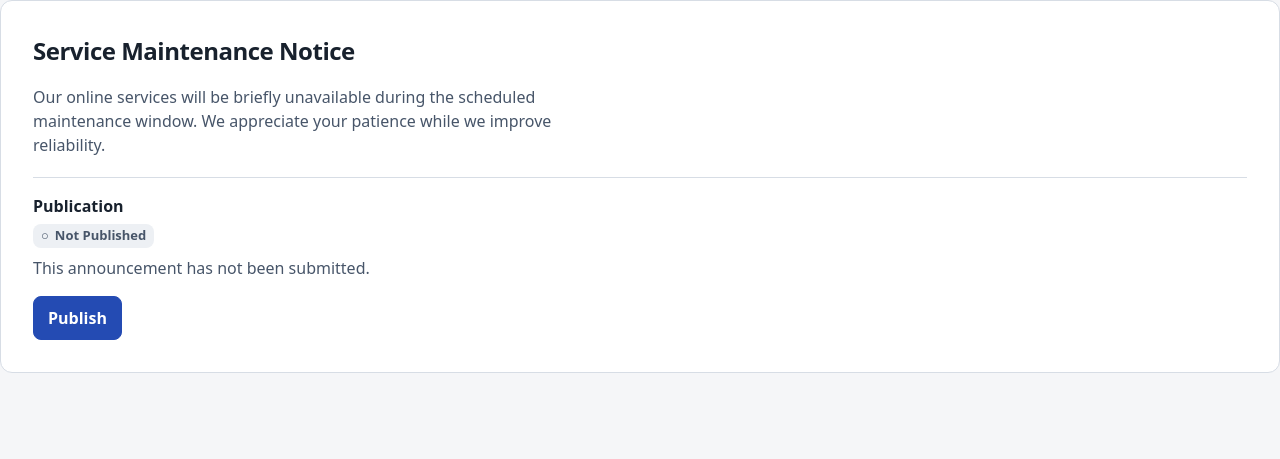
Test: preserves the published snapshot when the original slow publish response arrives
The width and height of the screenshot is (1280, 459).
Click the button "Publish" at (77, 318), box [33,296,122,340]
Wait 120 ms
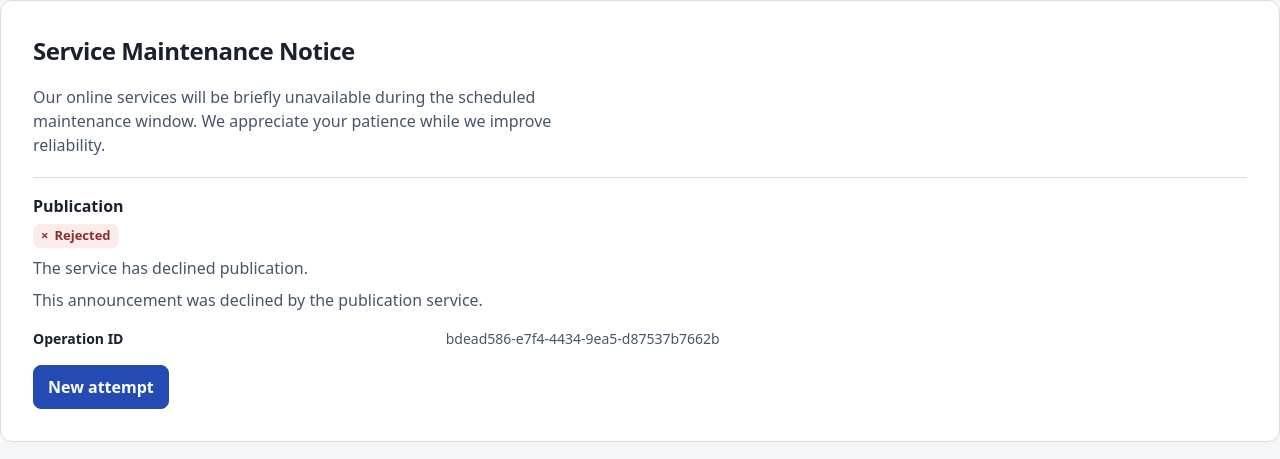
Click the button "New attempt" at (101, 386), box [33,364,169,408]
Wait 14500 ms
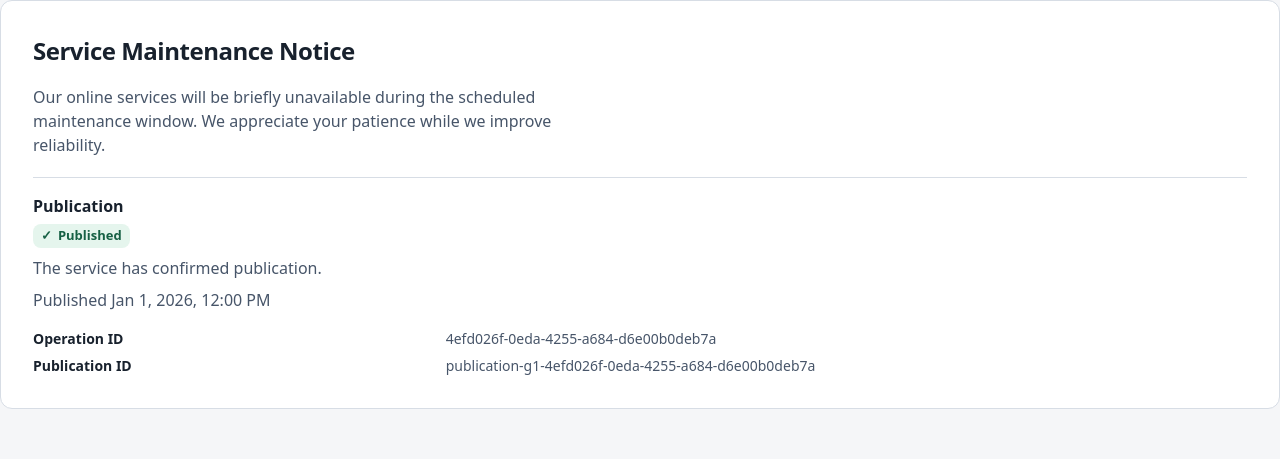
Expected: the message shows "The service has confirmed publication.", [33,256,322,278]
